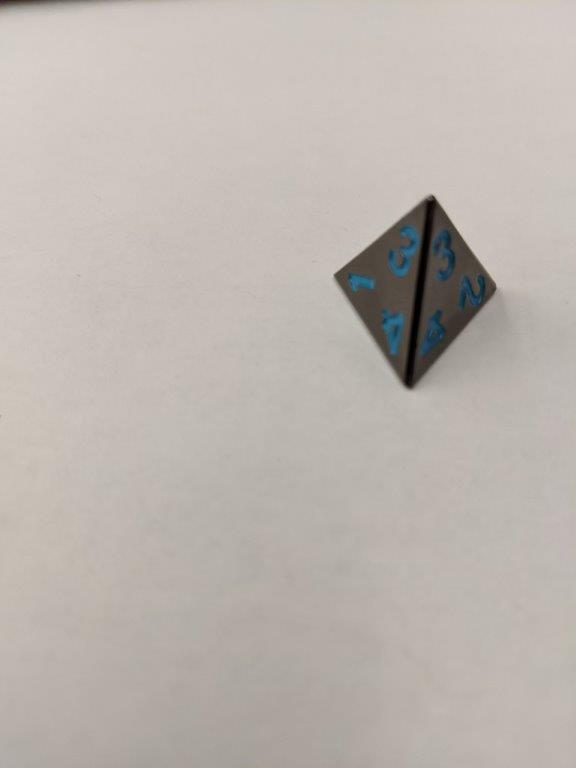d4-3: (332, 191, 499, 391)
